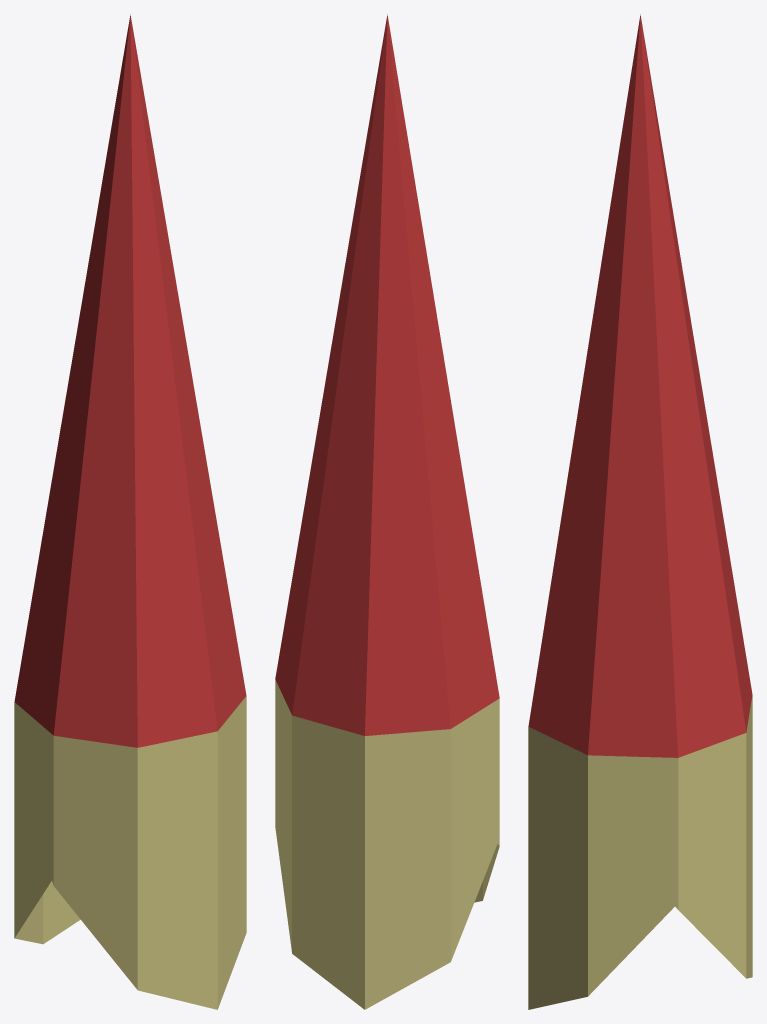
3 renders of one model, left to right at view 1: azimuth 30°, elevation 25°; view 2: azimuth 150°, elevation 25°; view 3: azimuth 270°, elevation 25°, orthographic. The views are drawn at different scales.
Size of the model in its own units: 3.34 by 3.34 by 16.12.
